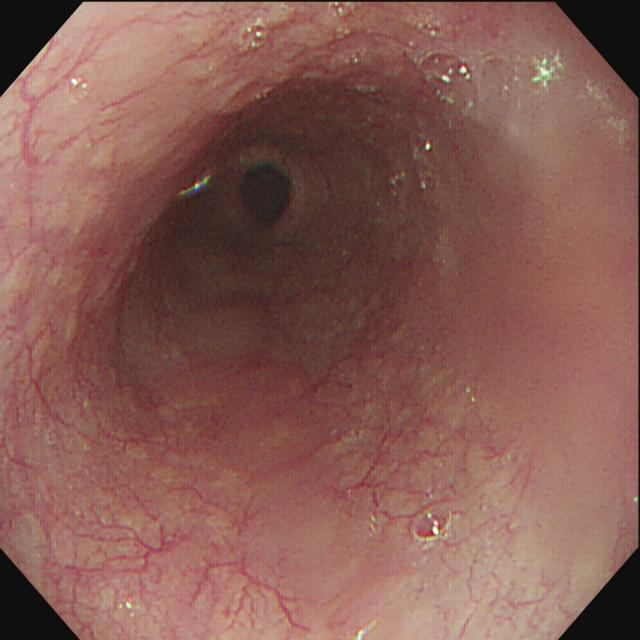E: (204, 127, 328, 259)
T: (411, 11, 480, 118), (409, 505, 457, 550), (243, 23, 272, 56), (329, 3, 363, 24)
U: (532, 52, 566, 92), (180, 174, 216, 197)
